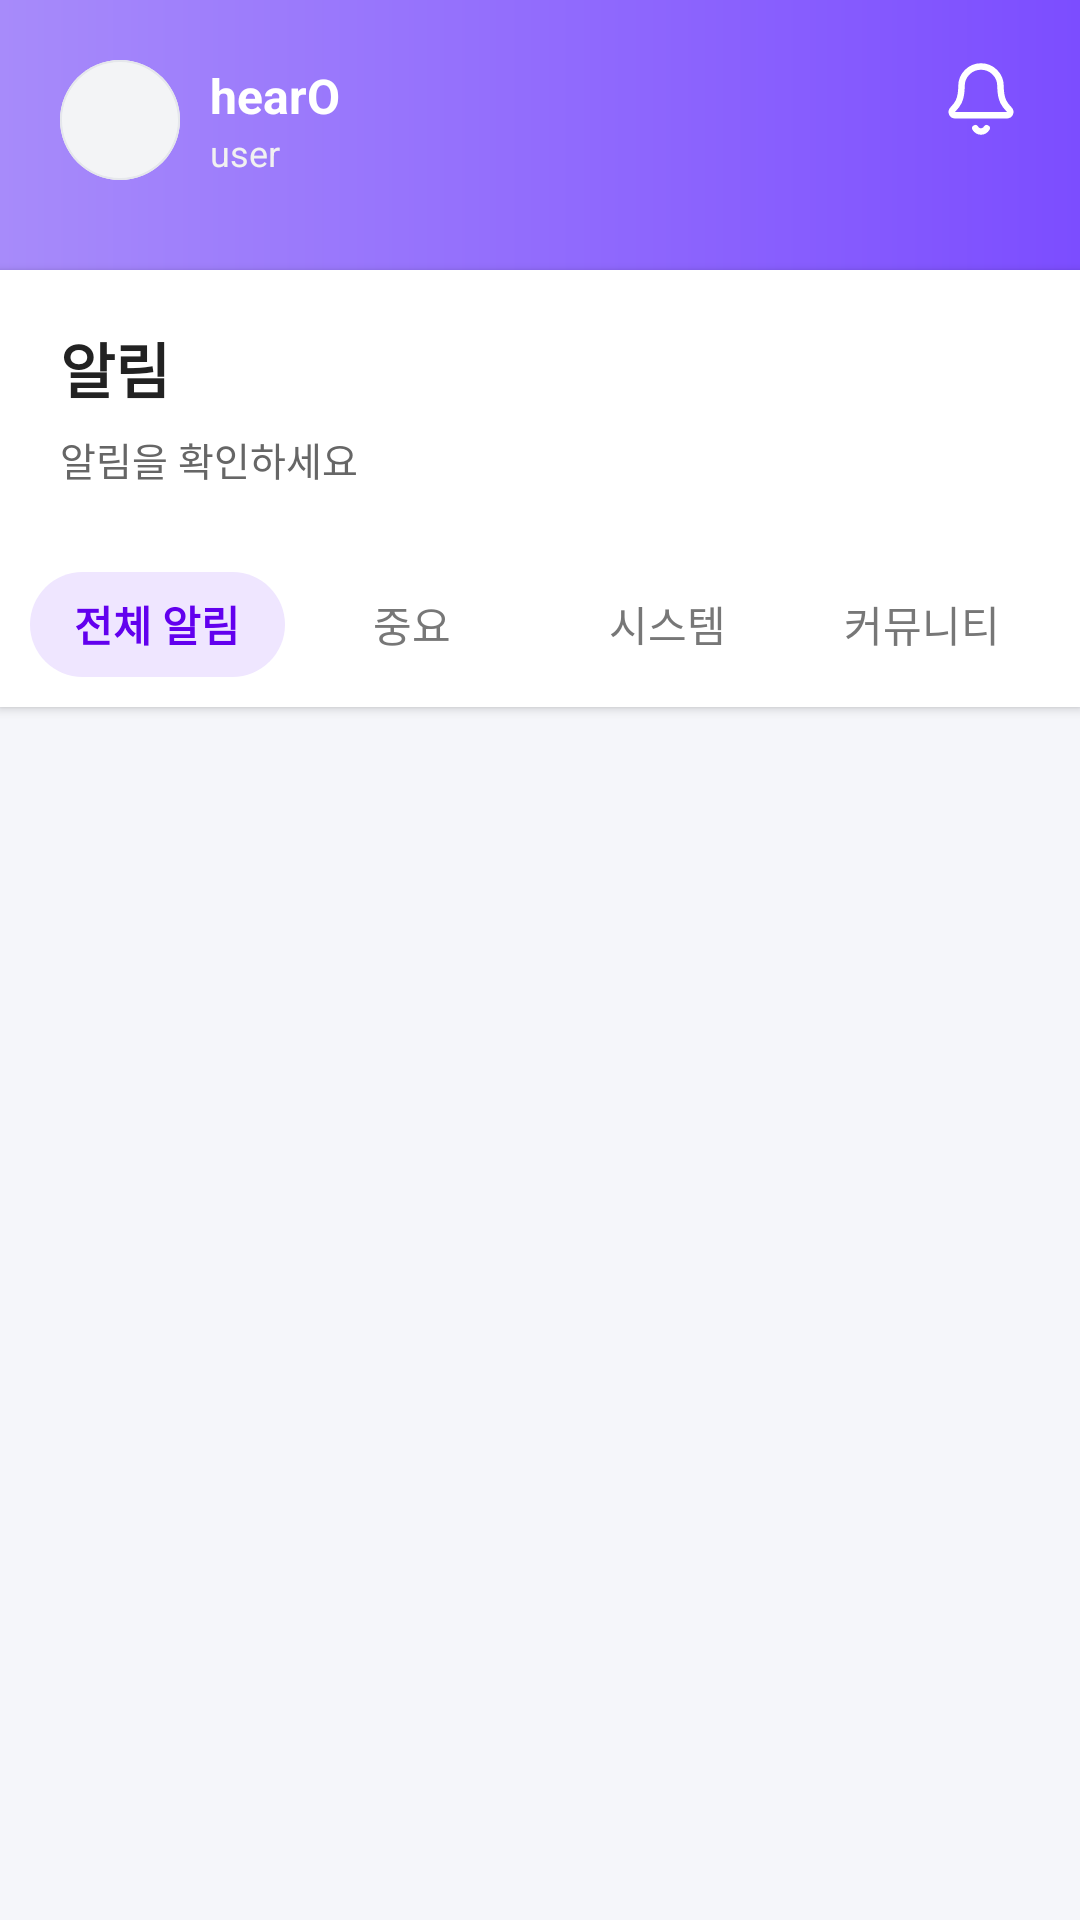

Where to tap for icons on this 1080 × 1920 app screen, as [x,y]:
alarm: [981,99]
